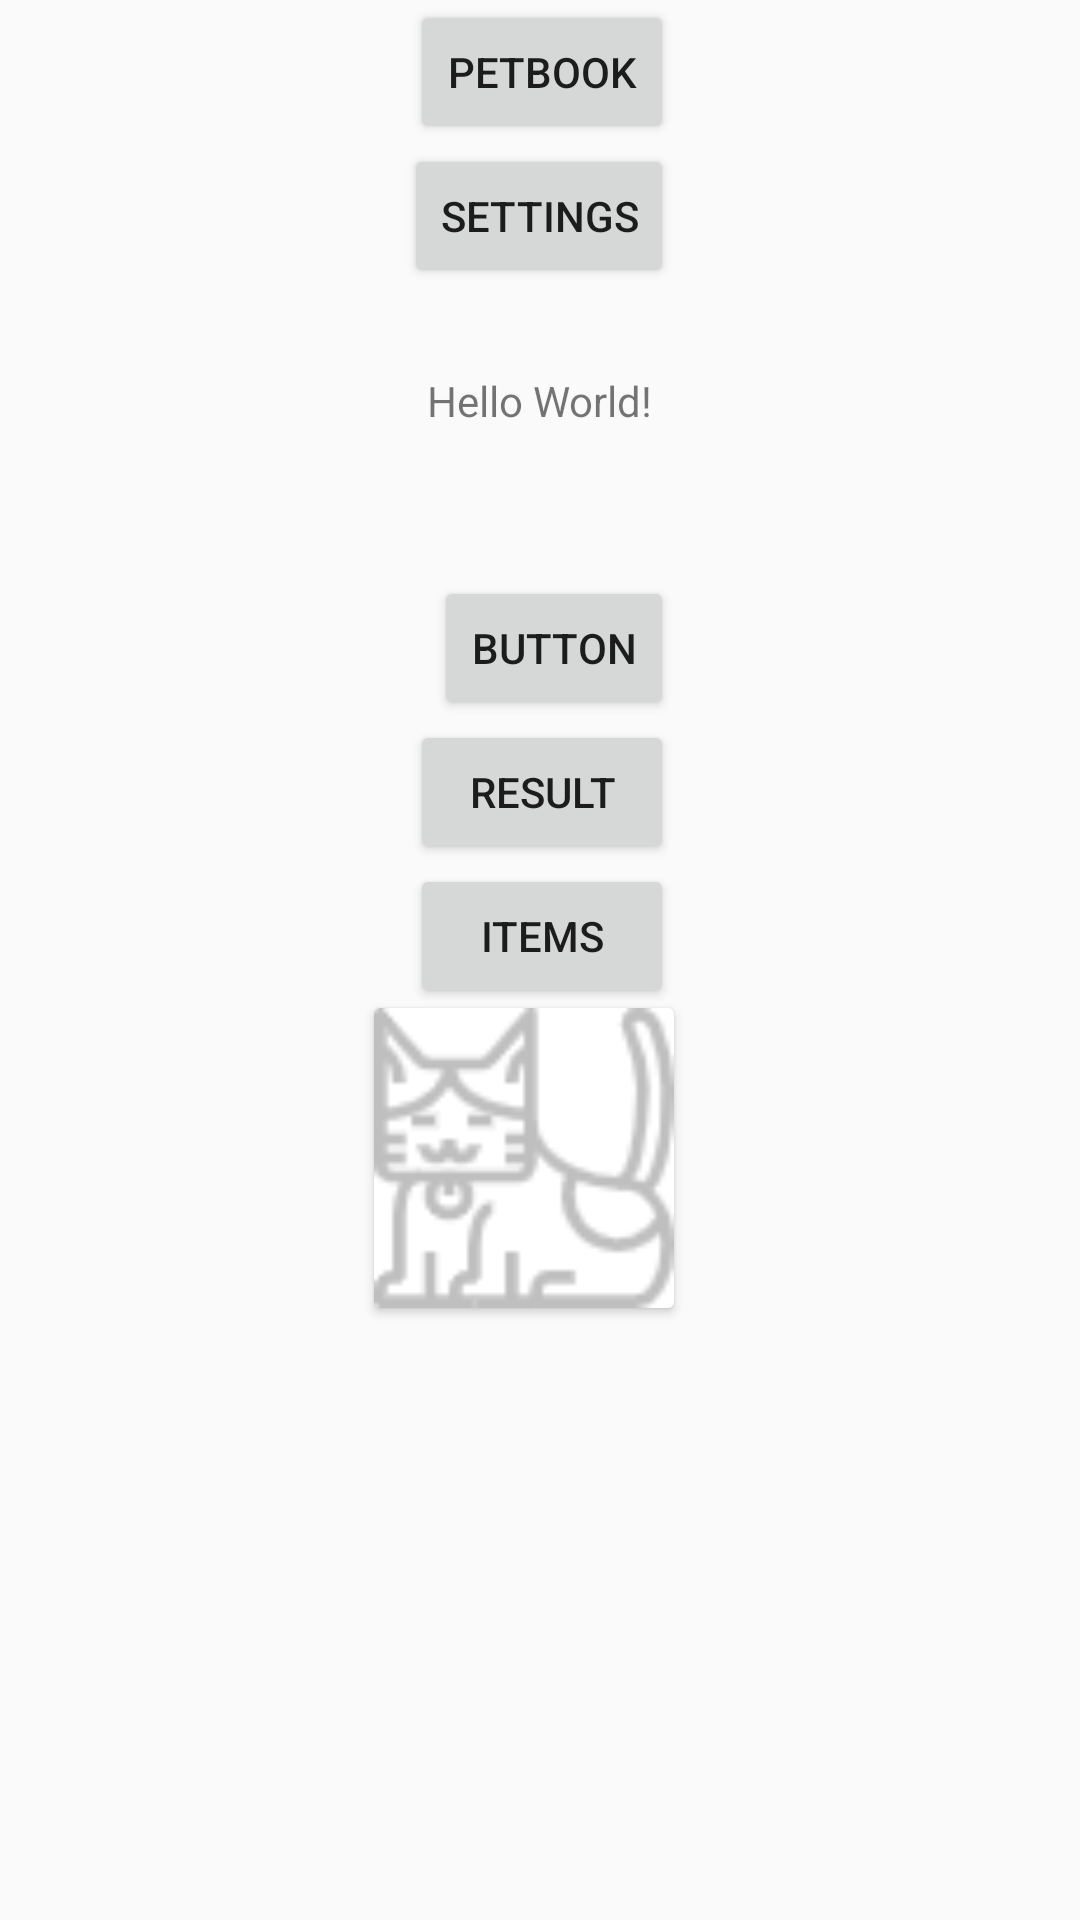

Where icons sit on this 1080*1920 app screen, as (x1, y1, x2, y2):
cat: (374, 1008, 674, 1308)
